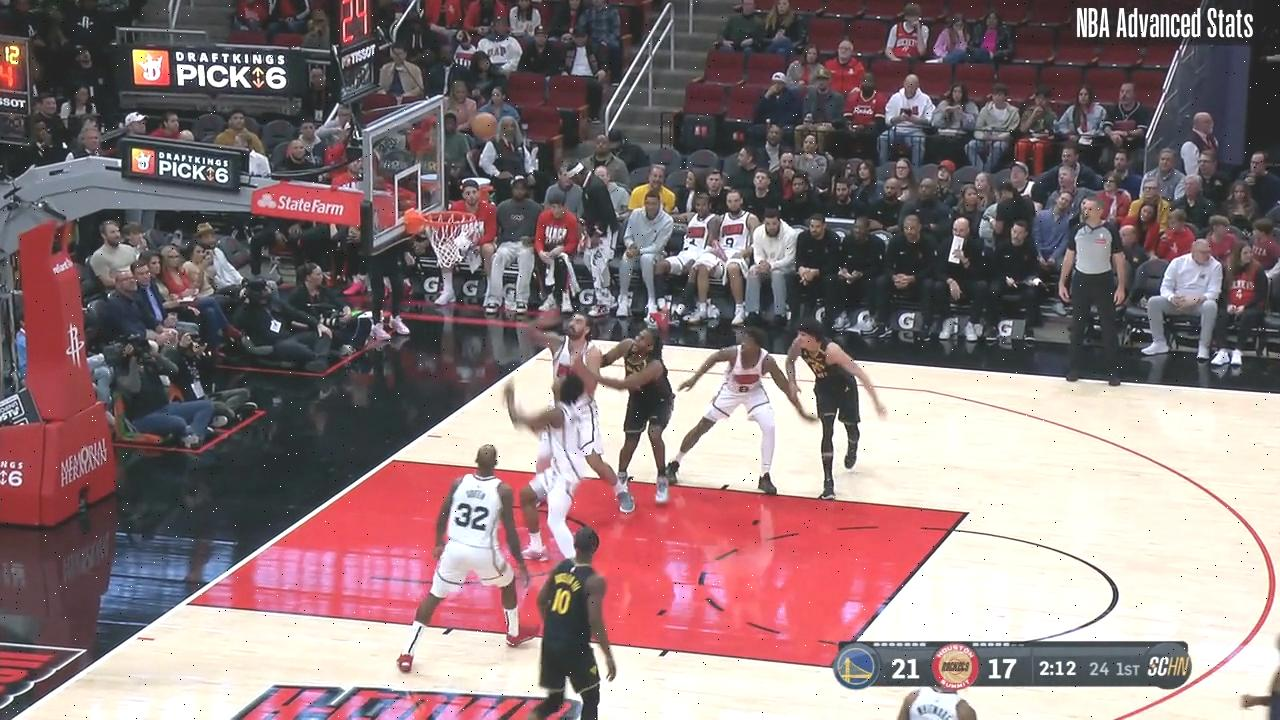basketball: (469, 112, 500, 137)
